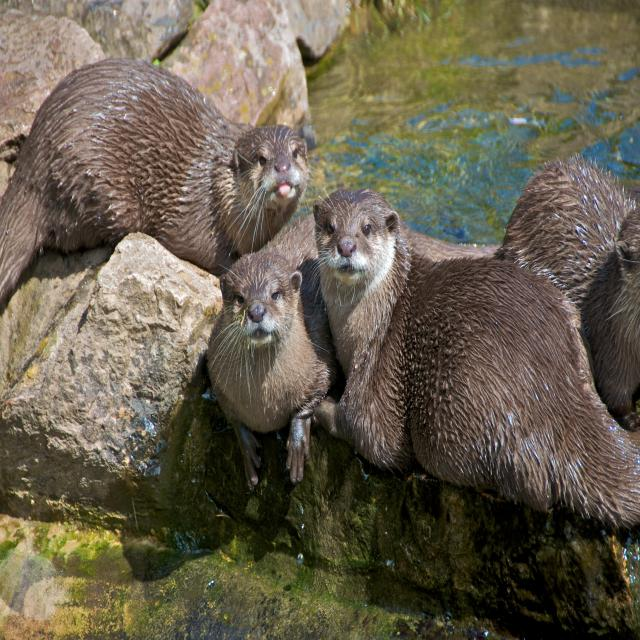otter: (315, 185, 640, 526), (1, 59, 307, 292), (506, 157, 640, 431), (208, 211, 333, 481)
